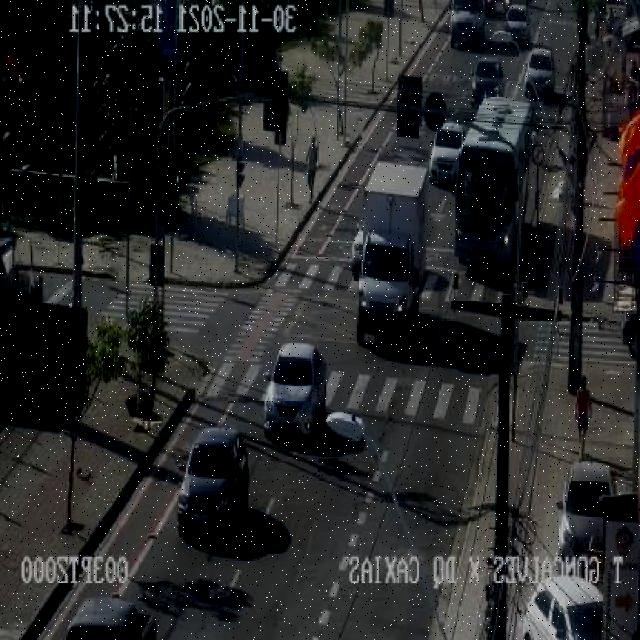Bus: (445, 91, 536, 265)
Car: (179, 427, 251, 531), (261, 331, 327, 442), (519, 576, 605, 638), (560, 462, 616, 556), (63, 595, 155, 640), (428, 121, 466, 187), (522, 48, 556, 102), (450, 0, 484, 49), (472, 57, 506, 105), (505, 4, 532, 46)
Truck: (347, 151, 436, 347)
